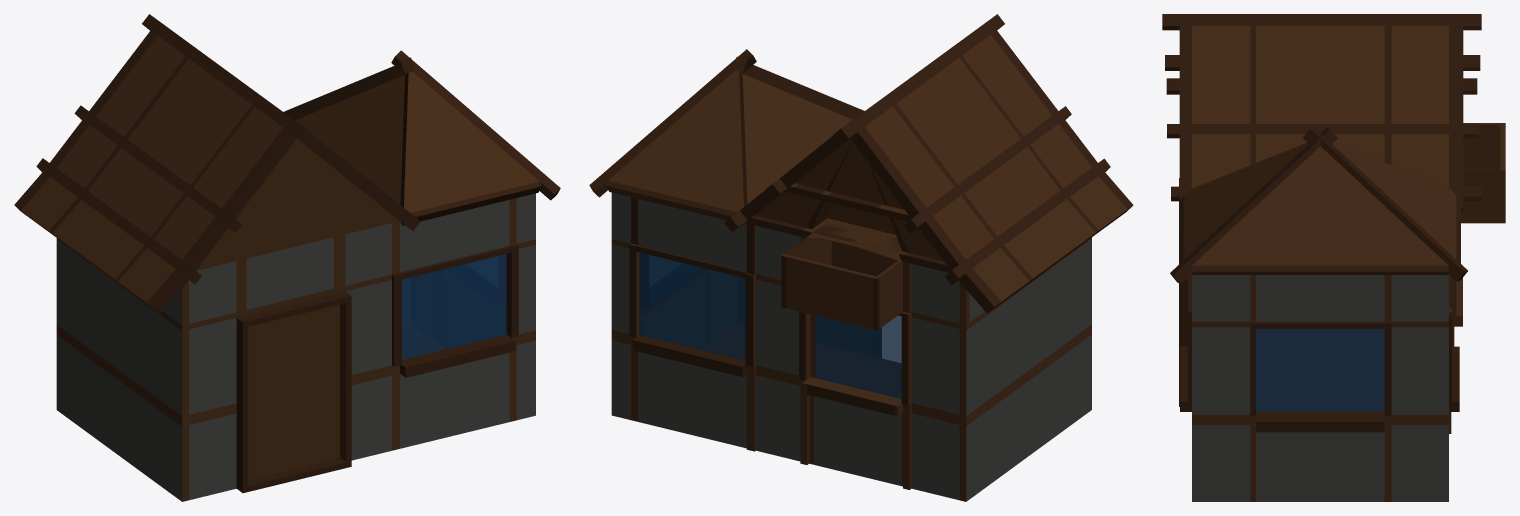
File: House.fbx
3 renders of one model, left to right at view 1: azimuth 30°, elevation 25°; view 2: azimuth 150°, elevation 25°; view 3: azimuth 270°, elevation 25°, orthographic. The views are drawn at different scales.
Parts seen in each view (by area): view 1: Cube; view 2: Cube; view 3: Cube.
Boxes of the visible parts, x1,y1,x2,y2 form: Cube: (14, 14, 560, 501); Cube: (589, 14, 1133, 501); Cube: (1162, 14, 1505, 501).
Size of the model in its own units: 372 by 314 by 267.
